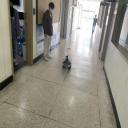cart: (62, 57, 72, 70)
